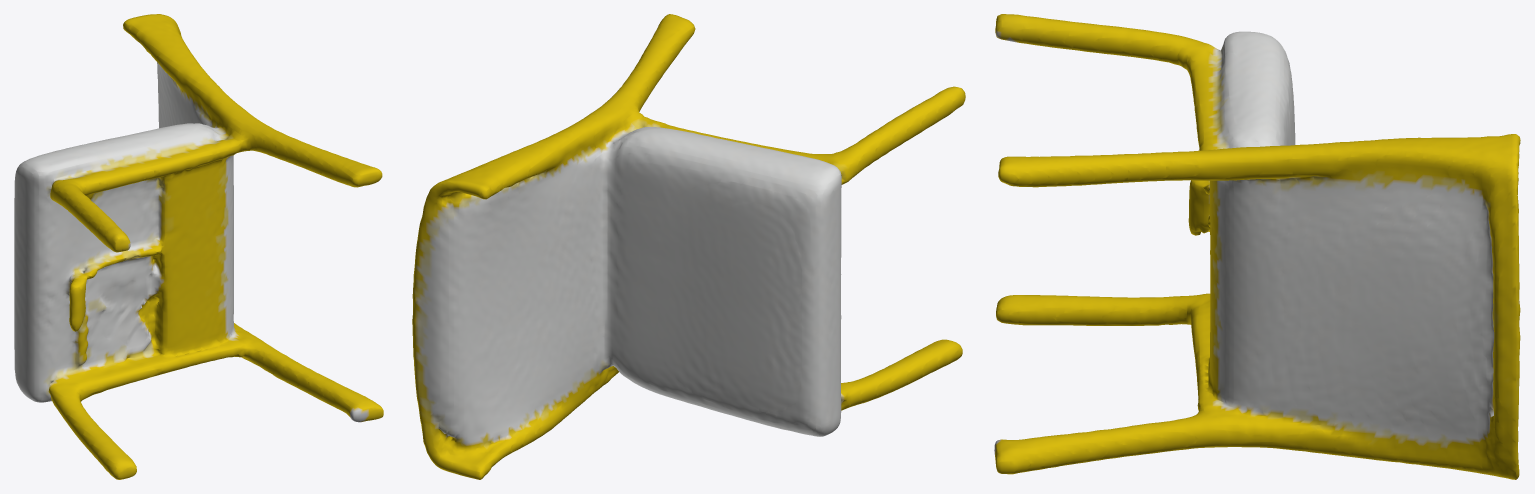
The model's file is Geometric white wood chair with silver armrests, y.glb.
The picture shows the model from 3 angles, left to right: view 1: azimuth 30°, elevation 25°; view 2: azimuth 150°, elevation 25°; view 3: azimuth 270°, elevation 25°; orthographic projection. The views are drawn at different scales.
Parts seen in each view (by area): view 1: Geometric white wood chair with silver armrests, y; view 2: Geometric white wood chair with silver armrests, y; view 3: Geometric white wood chair with silver armrests, y.
Boxes of the visible parts, left/top/right/bottom form: Geometric white wood chair with silver armrests, y: left=14, top=14, right=383, bottom=479; Geometric white wood chair with silver armrests, y: left=412, top=14, right=965, bottom=479; Geometric white wood chair with silver armrests, y: left=994, top=14, right=1520, bottom=479.
Size of the model in its own units: 0.7773 by 0.6834 by 1.
